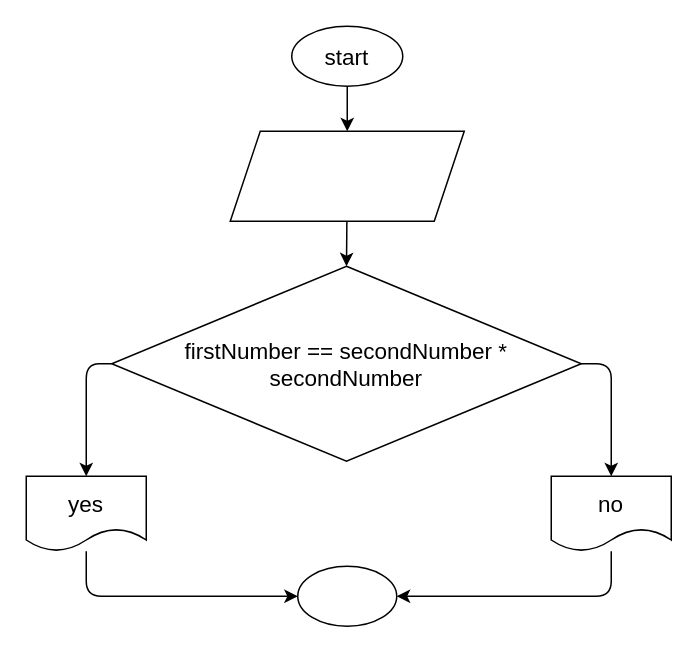
Image size: 698x653. Some labels were removed from this diagram. The centre of each missing label's shape, as x and y in pixels:
"end" goes at point (346, 595).
"firstNumber secondNumber" goes at point (346, 175).
